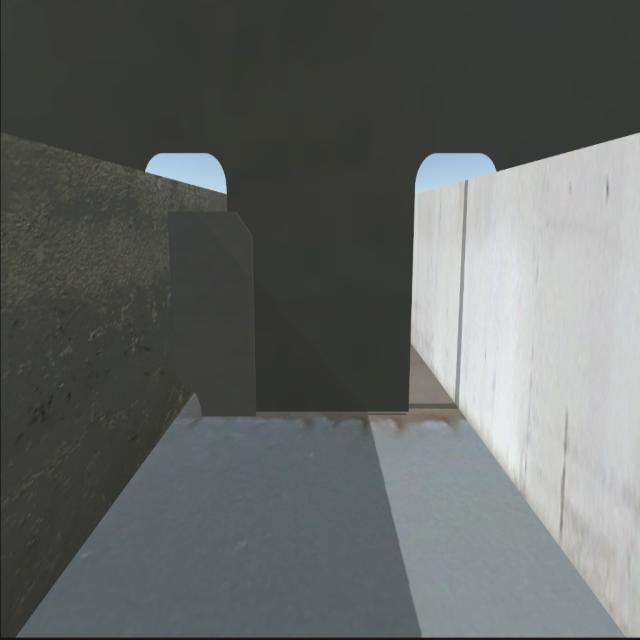fillet_hole: (176, 380, 210, 430)
fillet_yong_jeop_jang: (204, 411, 411, 418)
longi_yong_jeop_jang: (167, 216, 185, 374)
plate_CP03: (170, 215, 260, 415)
